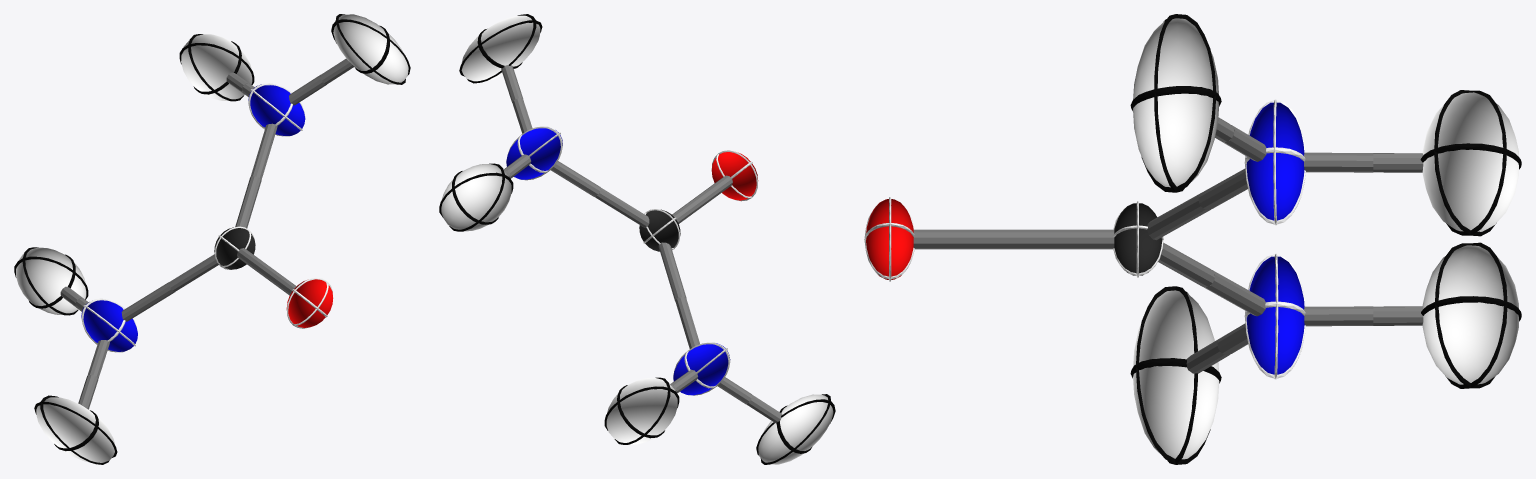
Rendered from urea_cc.obj.
The picture shows the model from 3 angles, left to right: view 1: azimuth 30°, elevation 25°; view 2: azimuth 150°, elevation 25°; view 3: azimuth 270°, elevation 25°; orthographic projection. The views are drawn at different scales.
Parts seen in each view (by area): view 1: object 7, H1, H2, object 8, N, object 6, O, C, object 17, N=C, C=N, object 18 (+5 smaller); view 2: object 8, H2, H1, object 7, object 6, N, O, C, object 18, C=N, N=C, object 17 (+5 smaller); view 3: H1, object 7, H2, object 8, object 6, N, O, C, C=O, O=C, object 22, N=H2 (+8 smaller).
Part boxes in pixels (left/top/right/bottom): object 7: left=34, top=395, right=117, bottom=464; H1: left=331, top=14, right=410, bottom=84; H2: left=179, top=34, right=254, bottom=101; object 8: left=14, top=247, right=88, bottom=315; N: left=248, top=83, right=305, bottom=136; object 6: left=81, top=298, right=137, bottom=352; O: left=286, top=277, right=333, bottom=328; C: left=214, top=226, right=255, bottom=269; object 17: left=121, top=282, right=174, bottom=321; N=C: left=250, top=123, right=277, bottom=179; C=N: left=235, top=176, right=261, bottom=228; object 18: left=168, top=254, right=218, bottom=291; object 8: left=604, top=377, right=679, bottom=444; H2: left=439, top=163, right=513, bottom=231; H1: left=459, top=14, right=542, bottom=83; object 7: left=756, top=394, right=835, bottom=464; object 6: left=673, top=342, right=730, bottom=395; N: left=506, top=126, right=562, bottom=180; O: left=711, top=150, right=758, bottom=201; C: left=639, top=209, right=680, bottom=251; object 18: left=658, top=242, right=686, bottom=301; C=N: left=595, top=187, right=649, bottom=227; N=C: left=550, top=161, right=600, bottom=196; object 17: left=675, top=297, right=699, bottom=348; H1: left=1130, top=14, right=1221, bottom=192; object 7: left=1130, top=286, right=1221, bottom=464; H2: left=1420, top=90, right=1521, bottom=236; object 8: left=1421, top=242, right=1521, bottom=388; object 6: left=1244, top=253, right=1305, bottom=379; N: left=1244, top=99, right=1305, bottom=225; O: left=864, top=197, right=914, bottom=281; C: left=1113, top=201, right=1163, bottom=277; C=O: left=1014, top=229, right=1114, bottom=249; O=C: left=913, top=229, right=1013, bottom=249; object 22: left=1304, top=306, right=1373, bottom=326; N=H2: left=1304, top=152, right=1373, bottom=172.
Size of the model in its own units: 3.57 by 3.57 by 3.33.
